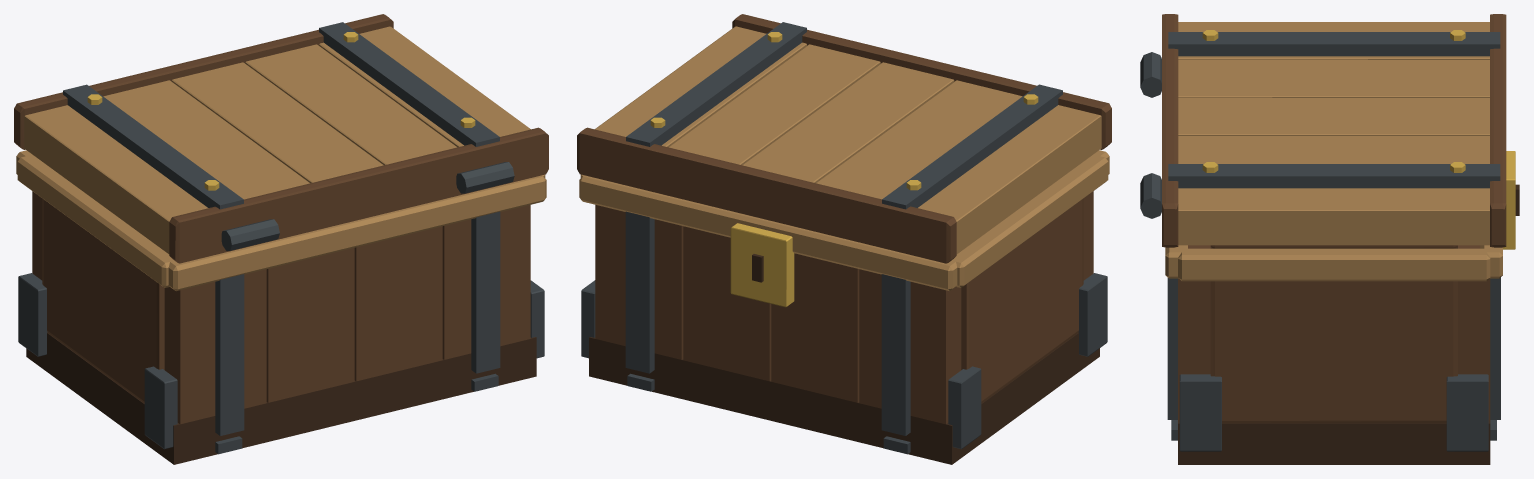
File: chest.glb
The picture shows the model from 3 angles, left to right: view 1: azimuth 30°, elevation 25°; view 2: azimuth 150°, elevation 25°; view 3: azimuth 270°, elevation 25°; orthographic projection. The views are drawn at different scales.
Parts seen in each view (by area): view 1: ChestBody, LidHinge; view 2: ChestBody, LidHinge; view 3: LidHinge, ChestBody.
Part boxes in pixels (<box>): ChestBody: <box>16,150,546,464</box>; LidHinge: <box>14,14,548,263</box>; ChestBody: <box>579,150,1109,464</box>; LidHinge: <box>577,14,1111,263</box>; LidHinge: <box>1162,14,1506,247</box>; ChestBody: <box>1140,52,1519,464</box>.
Bounding box in the file's own units: 0.719 × 0.462 × 0.583.
